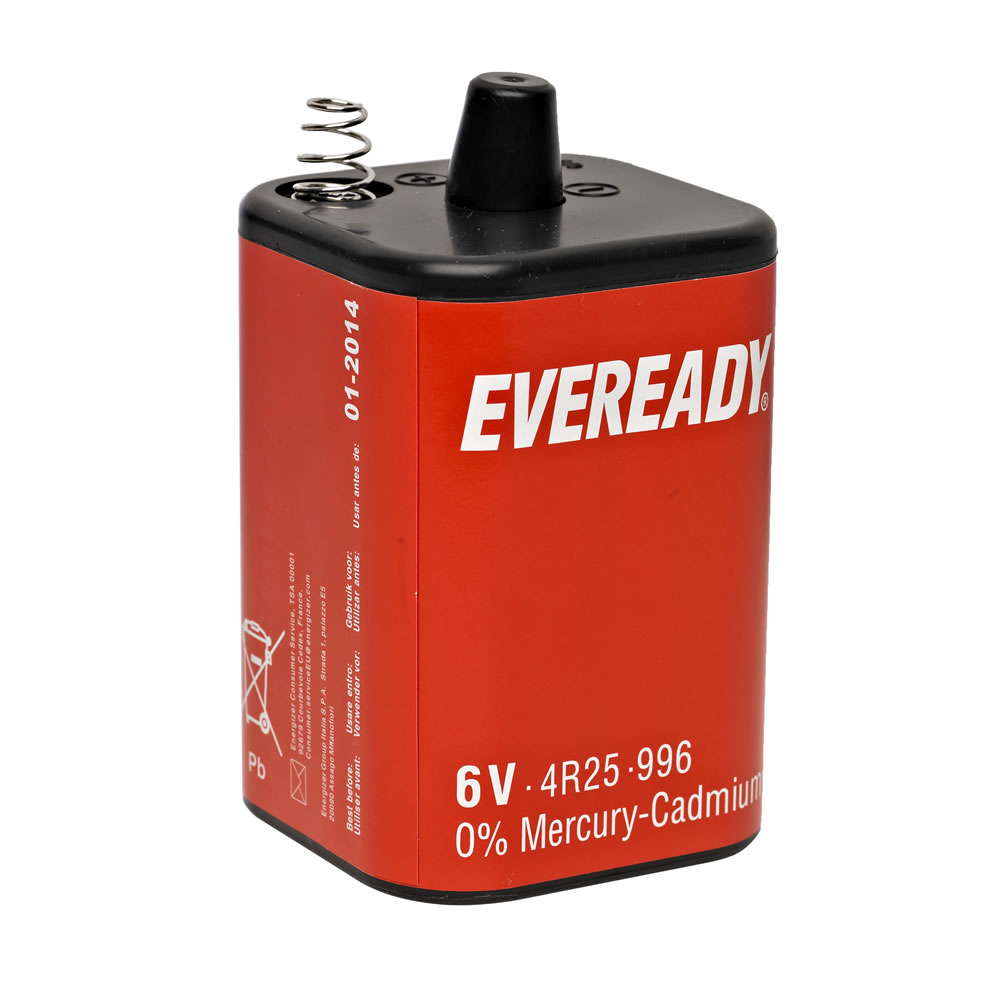6V: (226, 60, 791, 919)
